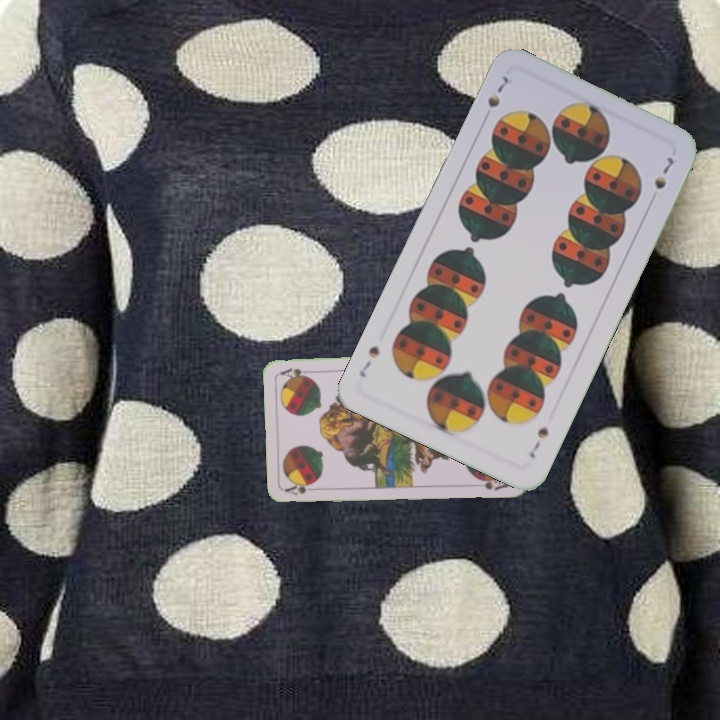S7: (483, 71, 512, 111), (525, 423, 552, 461)
SA: (282, 481, 322, 498)
